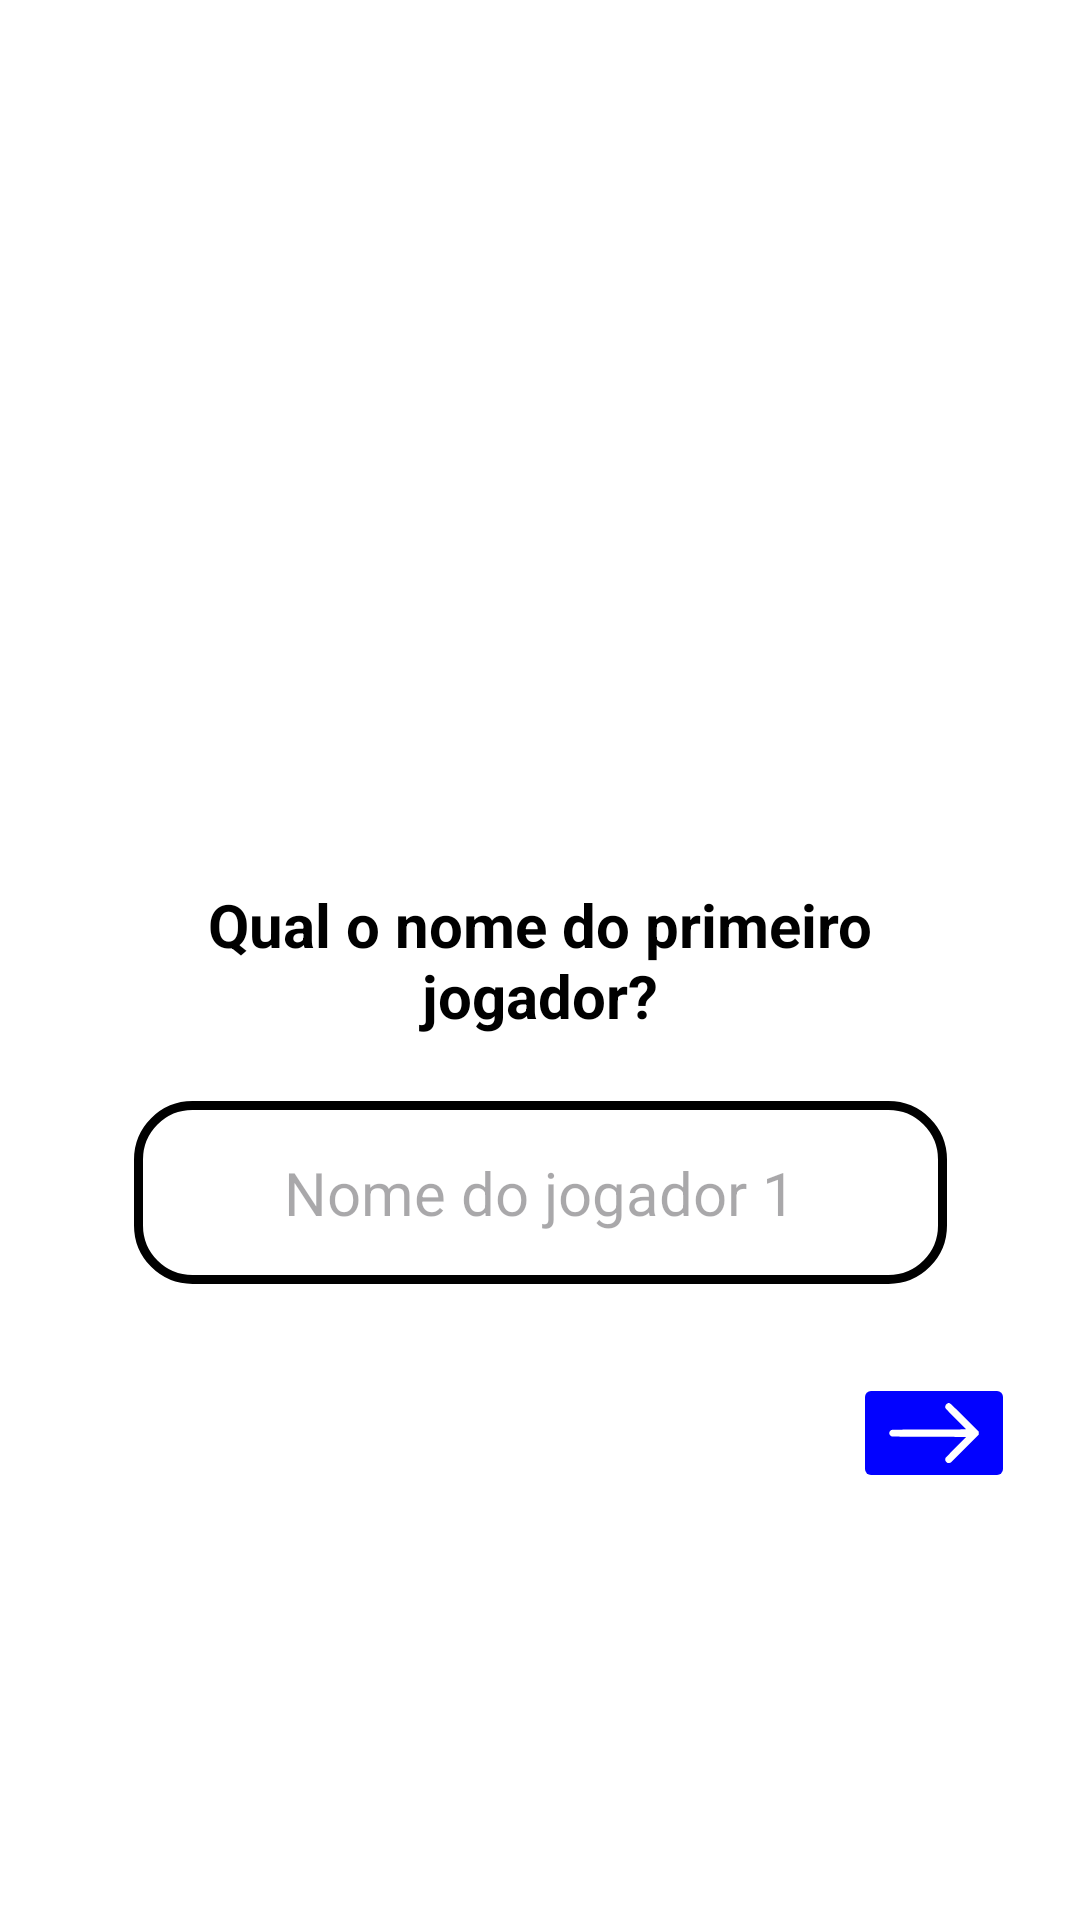

Icon bounding boxes for this 1080×1920 phone screenshot, format rect(x1, y1, x2, y2):
Próxima: rect(865, 1391, 1003, 1475)
